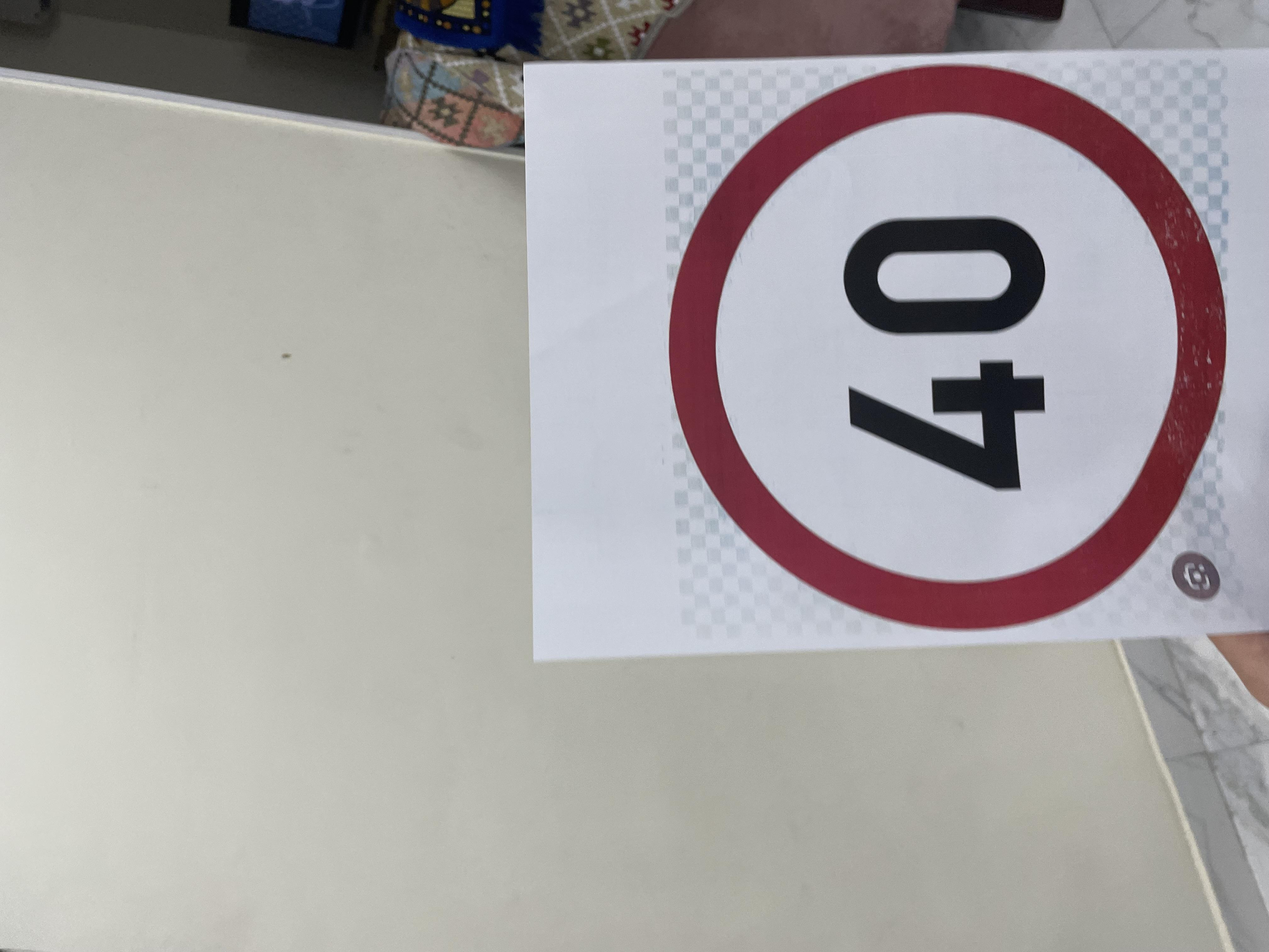40-Speed: (412, 492, 1197, 923)
